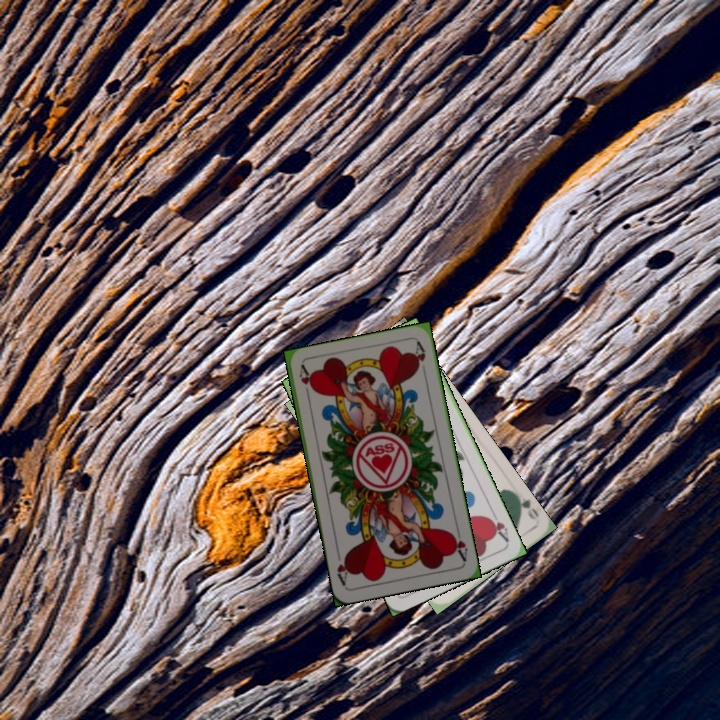GO: (510, 489, 542, 522)
HA: (483, 506, 511, 545), (447, 523, 470, 564), (295, 362, 315, 403)
